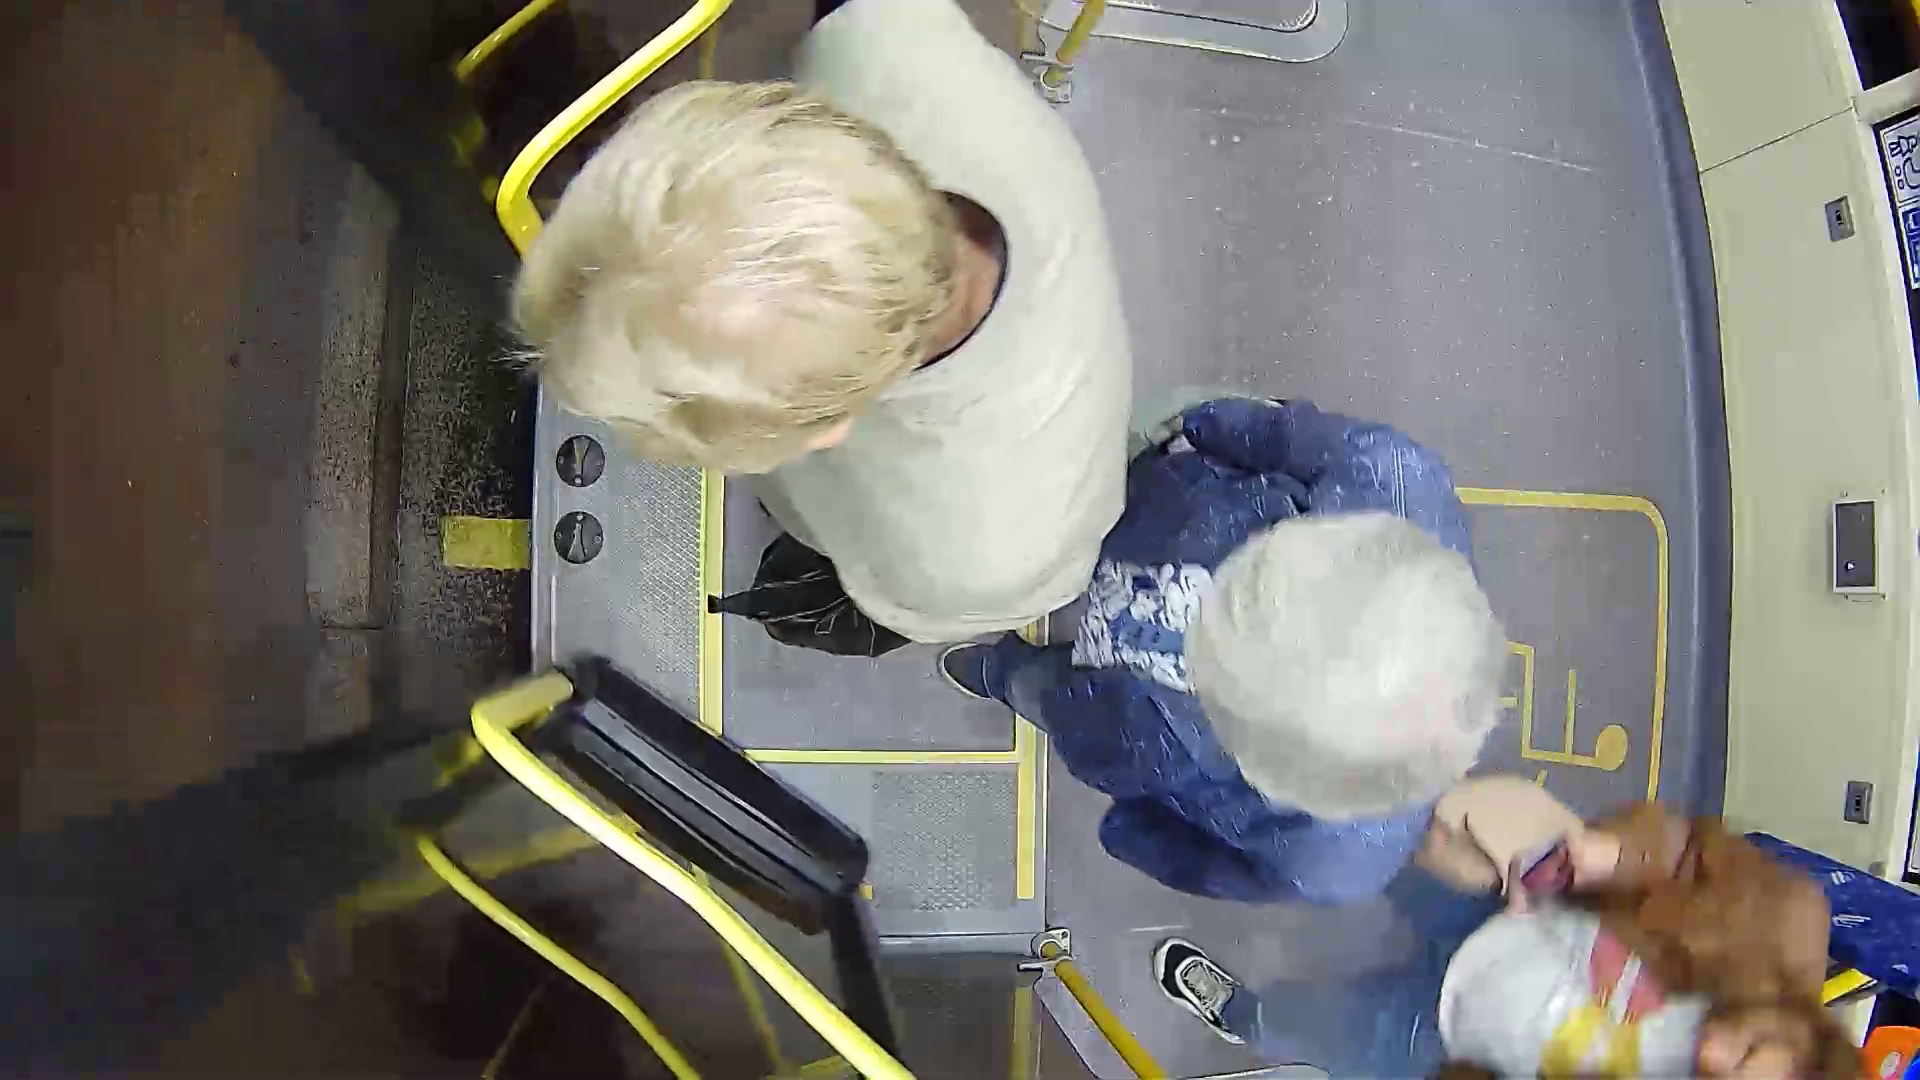person: (505, 77, 1187, 656), (1102, 396, 1559, 877)
